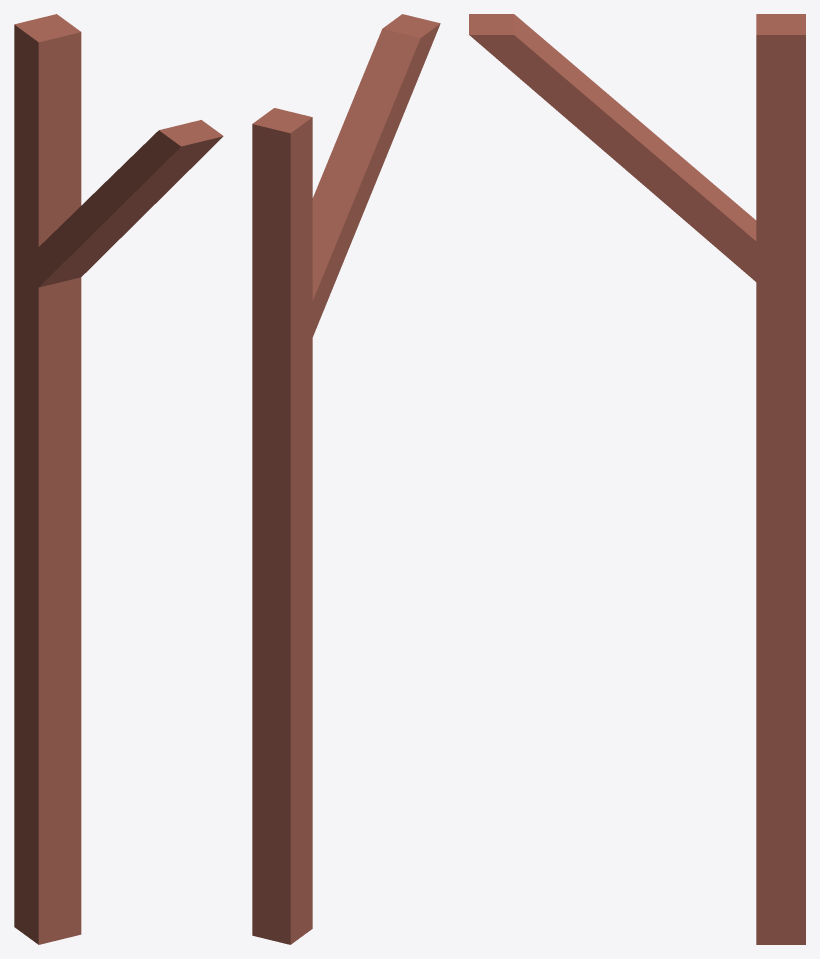
The model's file is minestrut.fbx.
3 renders of one model, left to right at view 1: azimuth 30°, elevation 25°; view 2: azimuth 150°, elevation 25°; view 3: azimuth 270°, elevation 25°, orthographic. The views are drawn at different scales.
Parts seen in each view (by area): view 1: Cube.001; view 2: Cube.001; view 3: Cube.001.
Boxes of the visible parts, bbox=[...] form: Cube.001: bbox=[14, 14, 223, 944]; Cube.001: bbox=[252, 14, 440, 944]; Cube.001: bbox=[469, 14, 805, 944].
Size of the model in its own units: 25.69 by 520 by 174.
